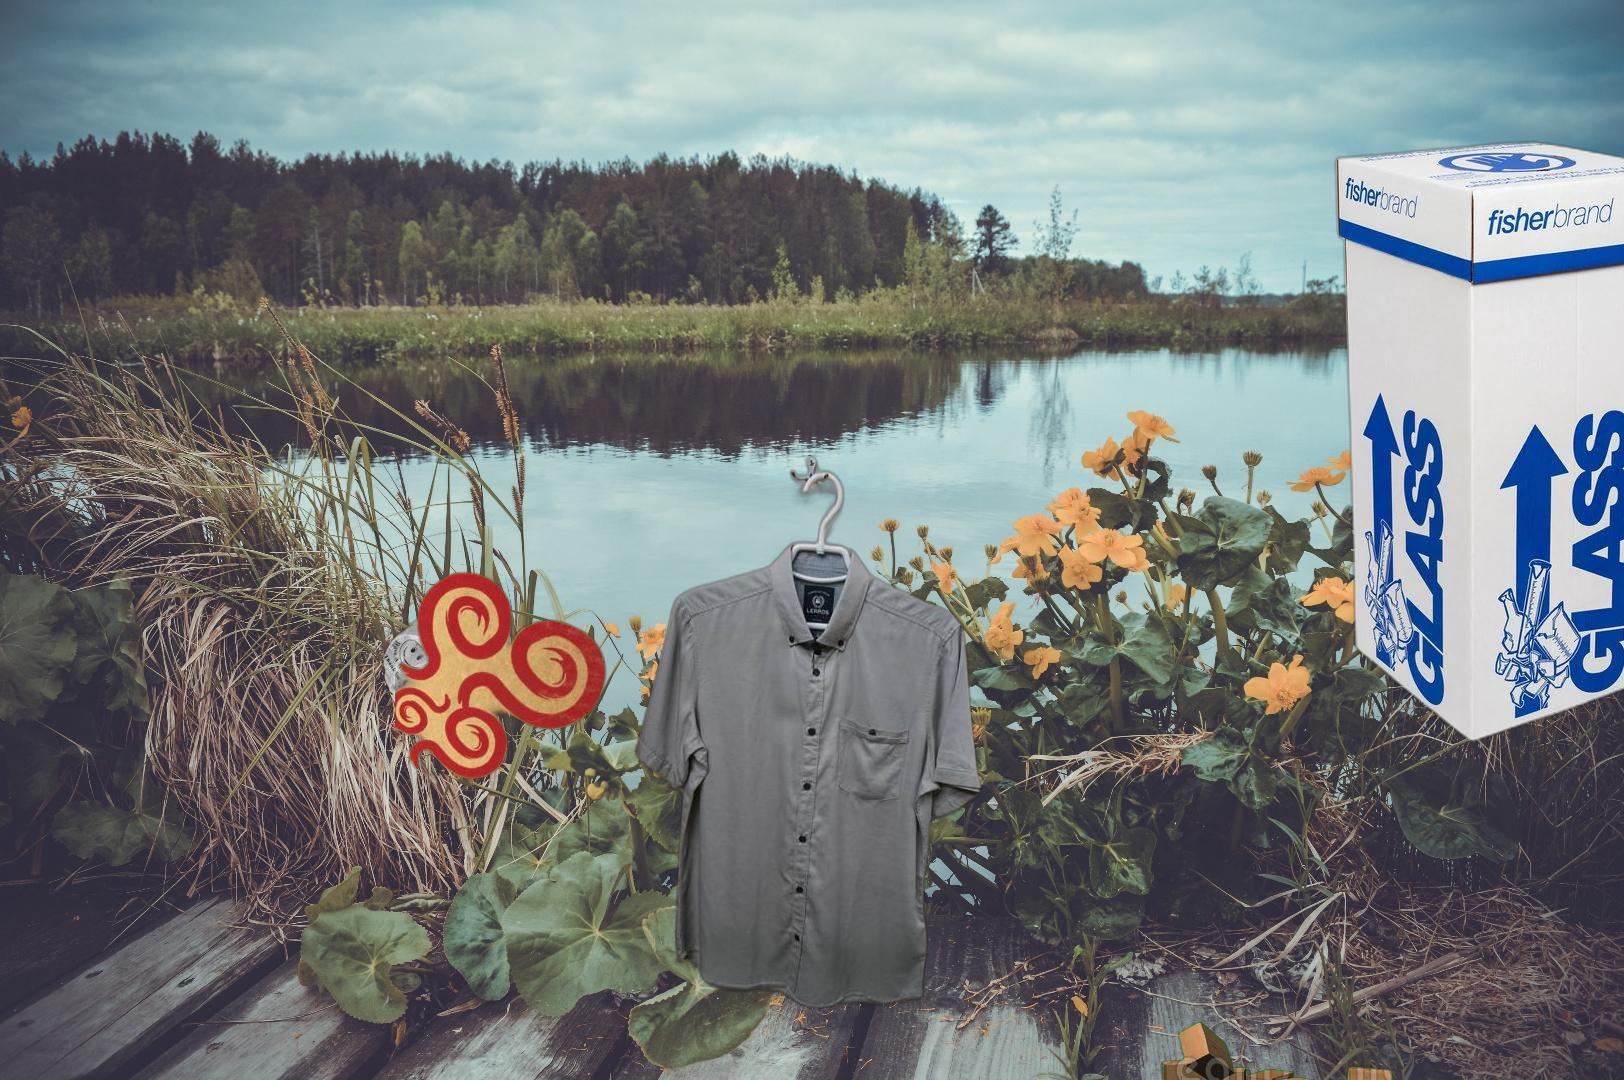clothes: (631, 450, 984, 1015)
plastic-bag: (379, 607, 471, 709)
trashbox-cardboard: (1330, 136, 1624, 749), (395, 569, 610, 782), (1157, 1019, 1396, 1080)
